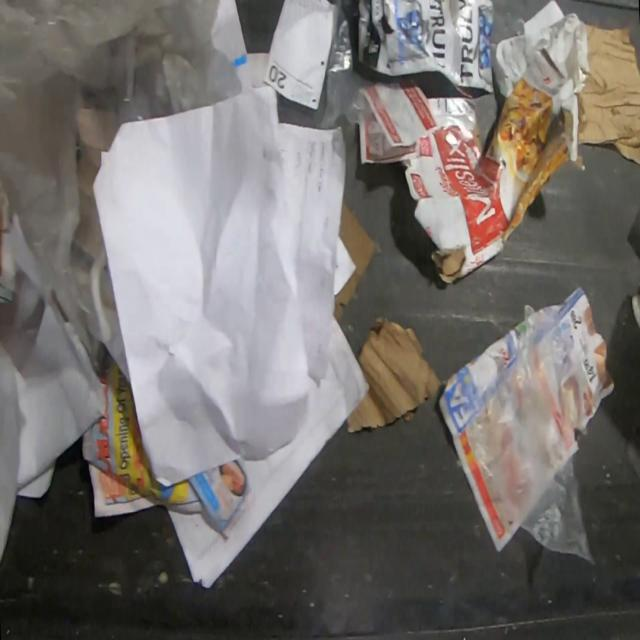cardboard: (400, 33, 580, 285), (346, 314, 443, 435), (334, 200, 379, 328)
soft_plastic: (0, 0, 245, 571), (457, 302, 598, 568), (318, 0, 428, 155)
